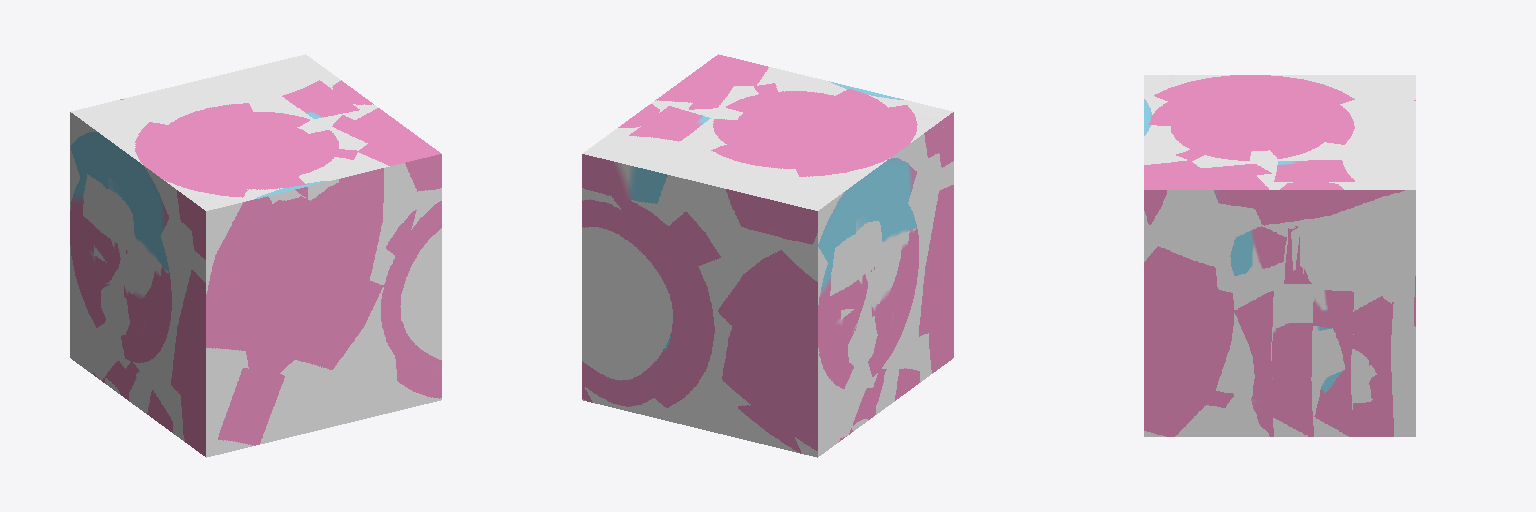
3 views of the same model, side by side, from view 1: azimuth 30°, elevation 25°; view 2: azimuth 150°, elevation 25°; view 3: azimuth 270°, elevation 25° (orthographic).
Visible parts, largest first — view 1: Player_立方体.003; view 2: Player_立方体.003; view 3: Player_立方体.003.
Boxes of the visible parts, <box> form: Player_立方体.003: <box>70,54,441,457</box>; Player_立方体.003: <box>582,54,953,457</box>; Player_立方体.003: <box>1144,75,1415,436</box>.
Size of the model in its own units: 2 by 2 by 2.
Materials: 1 (1 with a texture image).